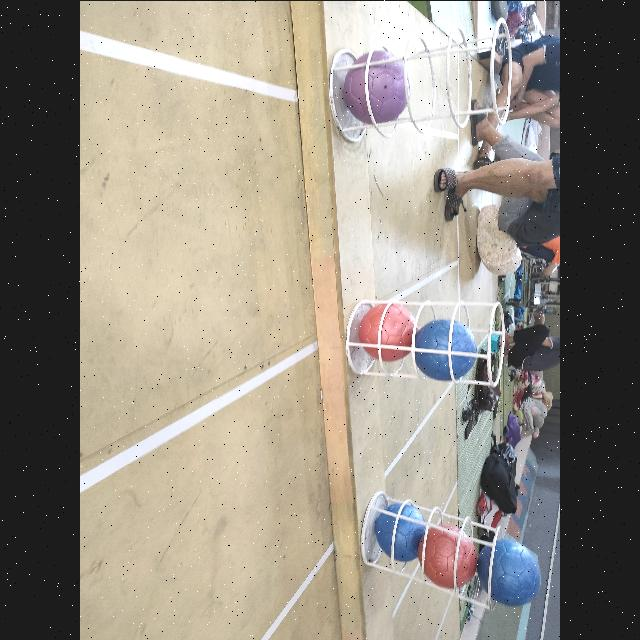B: (478, 538, 542, 608), (413, 316, 477, 380), (373, 502, 427, 562)
R: (420, 525, 476, 587), (359, 303, 418, 361)
